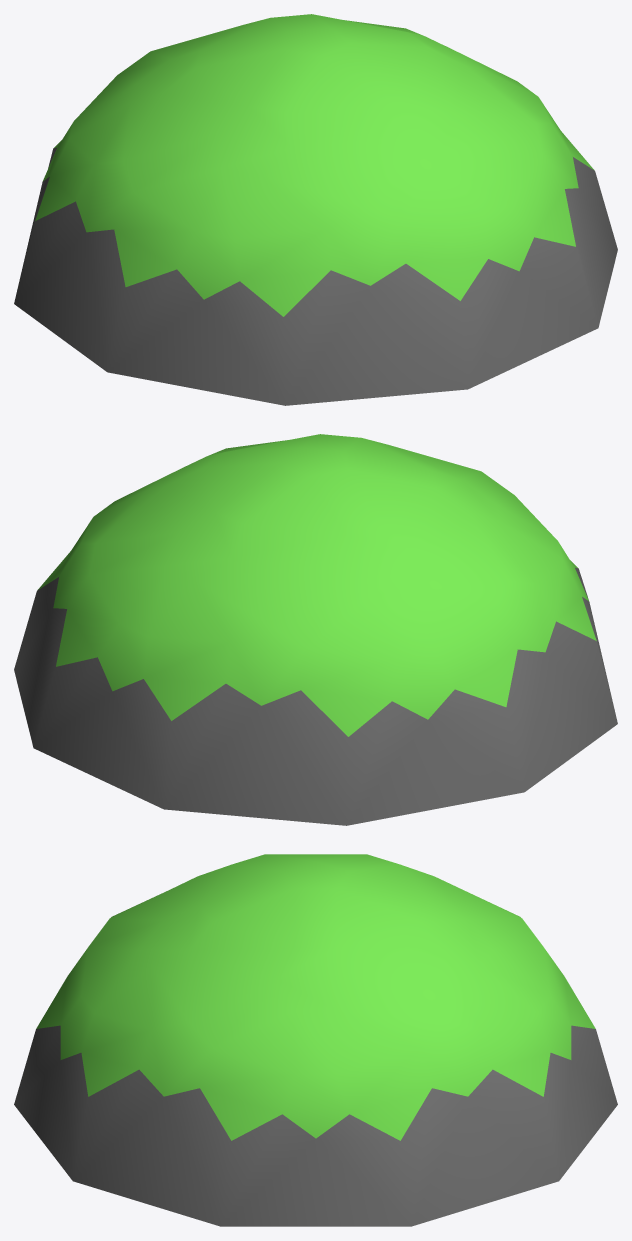
File: Hill.glb
The picture shows the model from 3 angles, top to bottom: view 1: azimuth 30°, elevation 25°; view 2: azimuth 150°, elevation 25°; view 3: azimuth 270°, elevation 25°; orthographic projection. The views are drawn at different scales.
Visible parts, largest first — view 1: Icosphere; view 2: Icosphere; view 3: Icosphere.
Boxes of the visible parts, x1=… form: Icosphere: x1=14, y1=14, x2=617, y2=405; Icosphere: x1=14, y1=434, x2=617, y2=825; Icosphere: x1=14, y1=854, x2=617, y2=1226.
Size of the model in its own units: 21.21 by 9.33 by 22.3.
